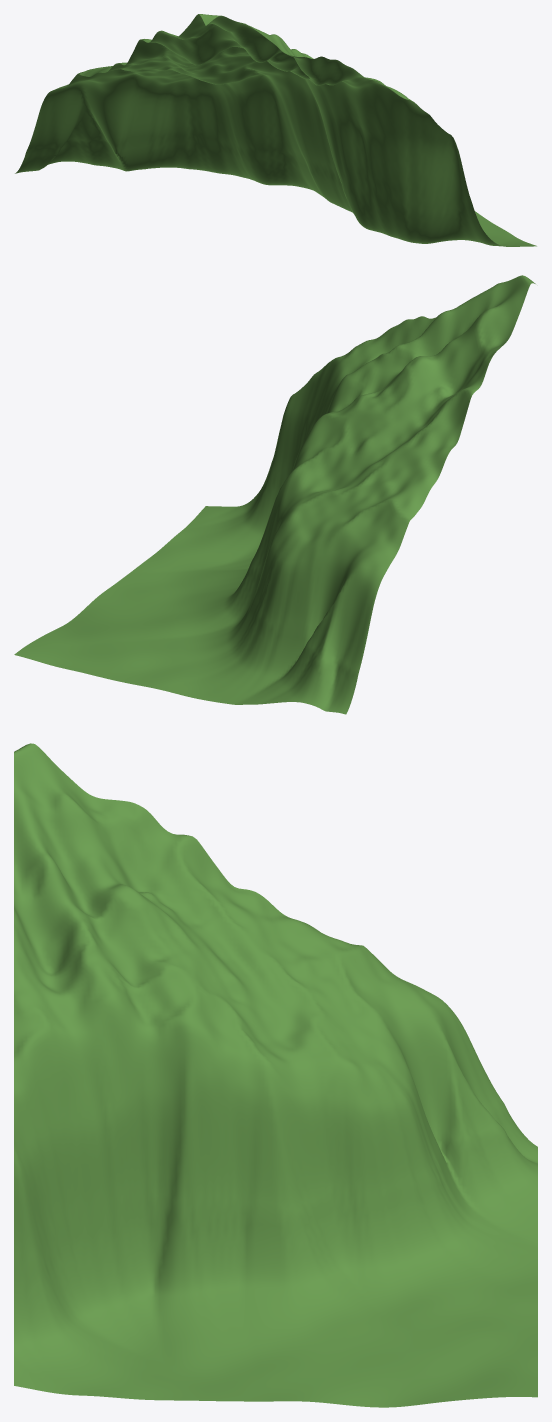
File: SM_Terrain_06_01.fbx
3 views of the same model, one above another, from view 1: azimuth 30°, elevation 25°; view 2: azimuth 150°, elevation 25°; view 3: azimuth 270°, elevation 25° (orthographic). The views are drawn at different scales.
Parts seen in each view (by area): view 1: SM_Terrain_06_01; view 2: SM_Terrain_06_01; view 3: SM_Terrain_06_01.
Boxes of the visible parts, left/top/right/bottom form: SM_Terrain_06_01: left=15, top=14, right=536, bottom=246; SM_Terrain_06_01: left=14, top=275, right=535, bottom=714; SM_Terrain_06_01: left=14, top=743, right=537, bottom=1407.
Size of the model in its own units: 384 by 358 by 384.
